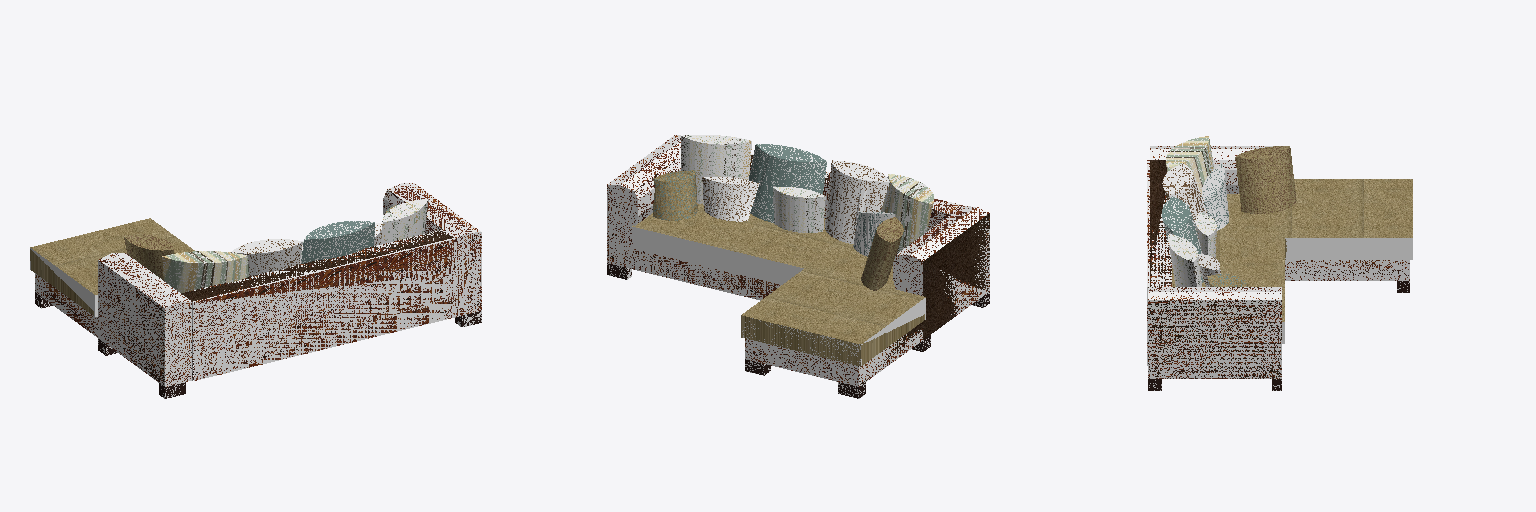
3 renders of one model, left to right at view 1: azimuth 30°, elevation 25°; view 2: azimuth 150°, elevation 25°; view 3: azimuth 270°, elevation 25°, orthographic.
Visible parts, largest first — view 1: mesh1_mesh1-geometry, mesh2_mesh2-geometry, mesh3_mesh3-geometry; view 2: mesh1_mesh1-geometry, mesh3_mesh3-geometry, mesh2_mesh2-geometry, mesh4_mesh4-geometry, mesh6_mesh6-geometry; view 3: mesh1_mesh1-geometry, mesh2_mesh2-geometry, mesh3_mesh3-geometry.
Boxes of the visible parts, x1,y1,x2,y2 form: mesh1_mesh1-geometry: [30, 183, 481, 398]; mesh2_mesh2-geometry: [162, 251, 248, 292]; mesh3_mesh3-geometry: [301, 221, 374, 263]; mesh1_mesh1-geometry: [607, 135, 989, 398]; mesh3_mesh3-geometry: [749, 144, 826, 222]; mesh2_mesh2-geometry: [881, 174, 933, 253]; mesh4_mesh4-geometry: [715, 247, 803, 284]; mesh6_mesh6-geometry: [636, 234, 714, 268]; mesh1_mesh1-geometry: [1147, 146, 1412, 390]; mesh2_mesh2-geometry: [1166, 136, 1213, 214]; mesh3_mesh3-geometry: [1162, 196, 1203, 282].
Bounding box in the file's own units: 0.7815 × 0.2679 × 0.5635.
Materials: 10 (5 with a texture image).